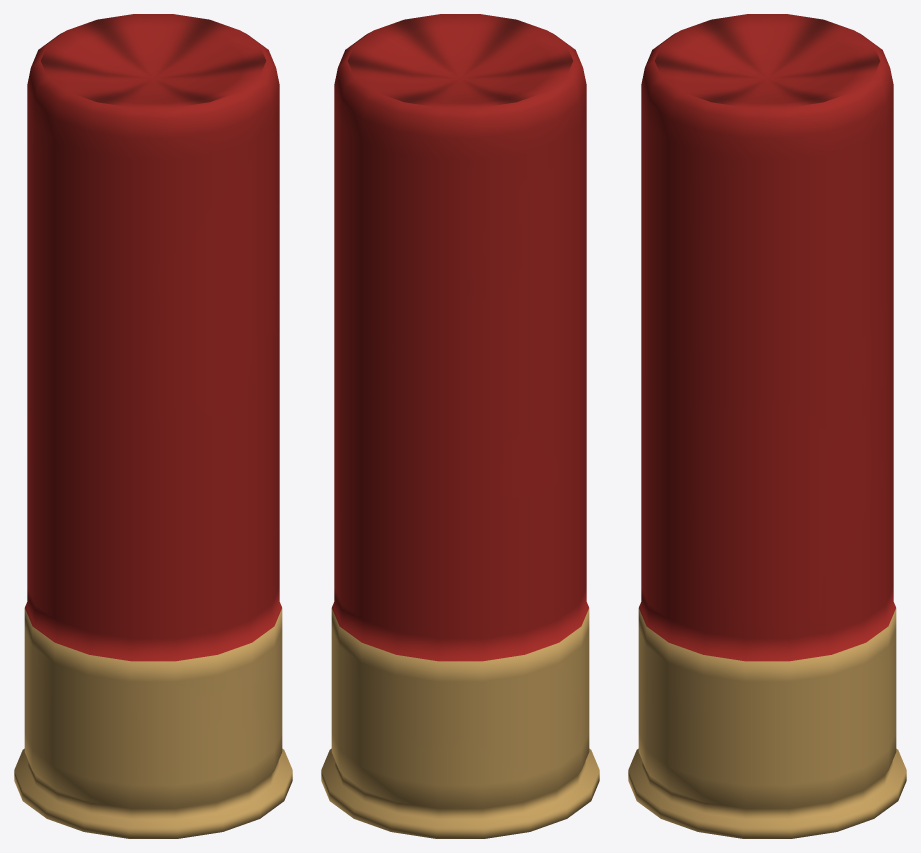
The model's file is shell_12ga.glb.
3 renders of one model, left to right at view 1: azimuth 30°, elevation 25°; view 2: azimuth 150°, elevation 25°; view 3: azimuth 270°, elevation 25°, orthographic.
Parts seen in each view (by area): view 1: shell_12ga; view 2: shell_12ga; view 3: shell_12ga.
Boxes of the visible parts, x1,y1,x2,y2 form: shell_12ga: [14, 14, 292, 838]; shell_12ga: [321, 14, 599, 838]; shell_12ga: [628, 14, 906, 838].
Bounding box in the file's own units: 0.0224 × 0.0652 × 0.0227.
Materials: 2 (2 with a texture image).
